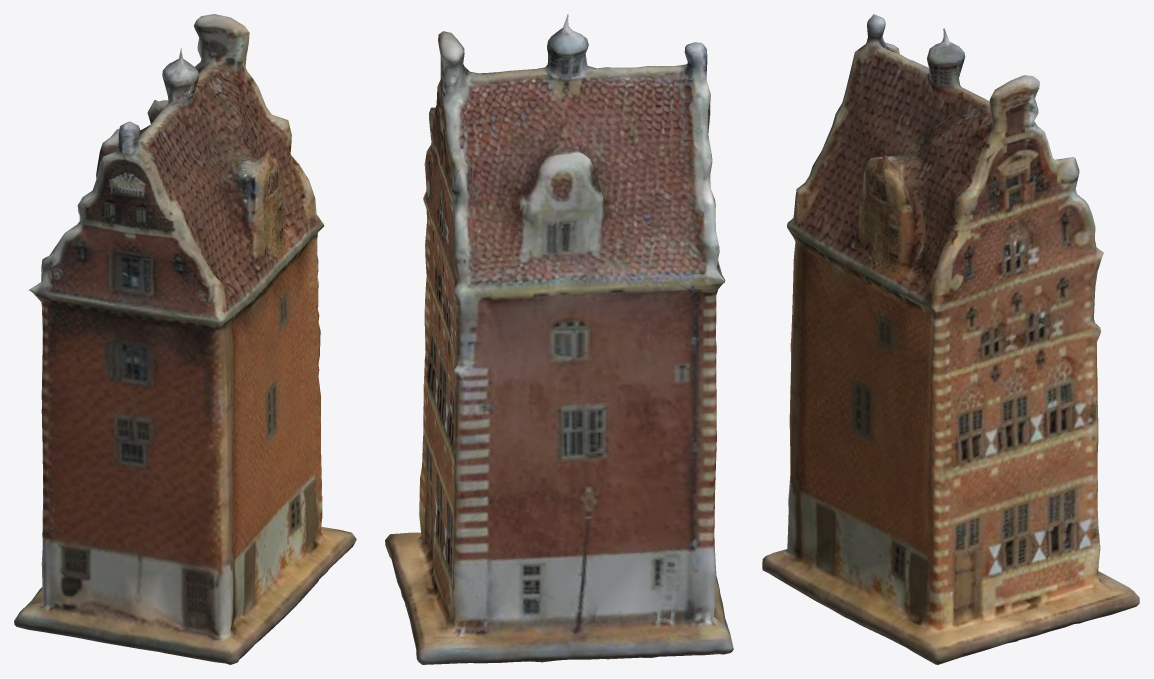
File: sf_townhouse_2.glb
3 views of the same model, side by side, from view 1: azimuth 30°, elevation 25°; view 2: azimuth 150°, elevation 25°; view 3: azimuth 270°, elevation 25° (orthographic). The views are drawn at different scales.
Parts seen in each view (by area): view 1: Object_4; view 2: Object_4; view 3: Object_4.
Part boxes in pixels (box(x1,y1,x2,y2)): Object_4: box(14, 14, 356, 664); Object_4: box(385, 14, 733, 664); Object_4: box(762, 14, 1139, 664).
Size of the model in its own units: 8.22 by 13 by 7.89.
Materials: 1 (1 with a texture image).
